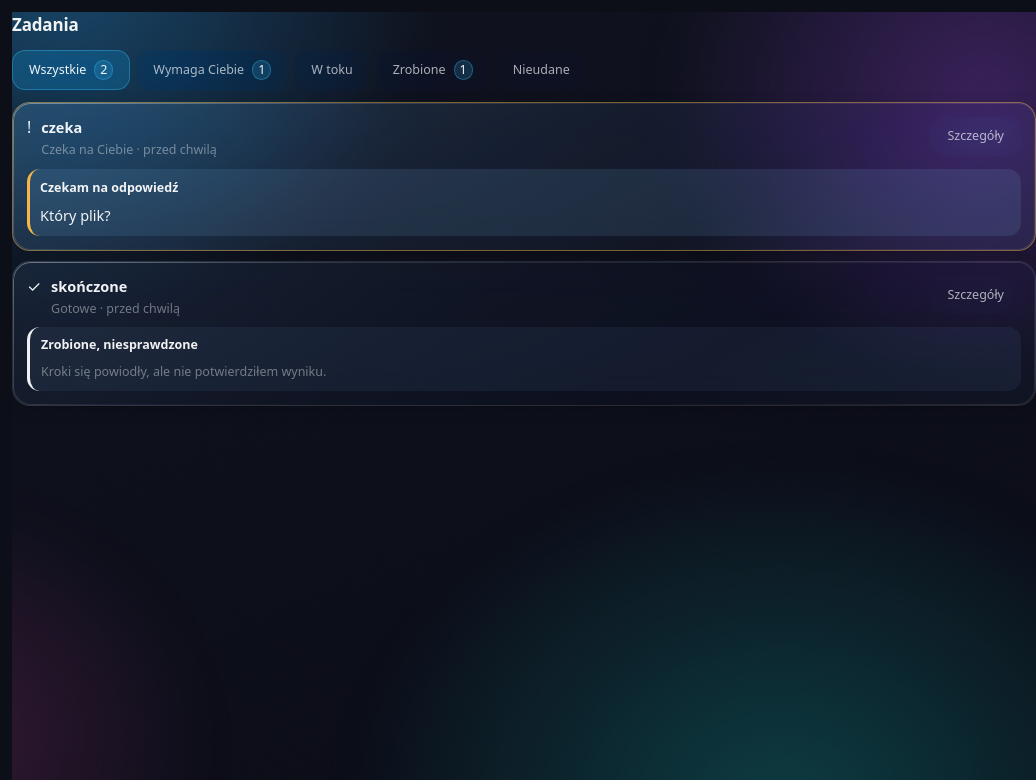
Test case: the tasks screen › filters to the group that matters
The width and height of the screenshot is (1036, 780).
Click the tab "Wymaga Ciebie 1": (212, 70) [136,50,288,90]
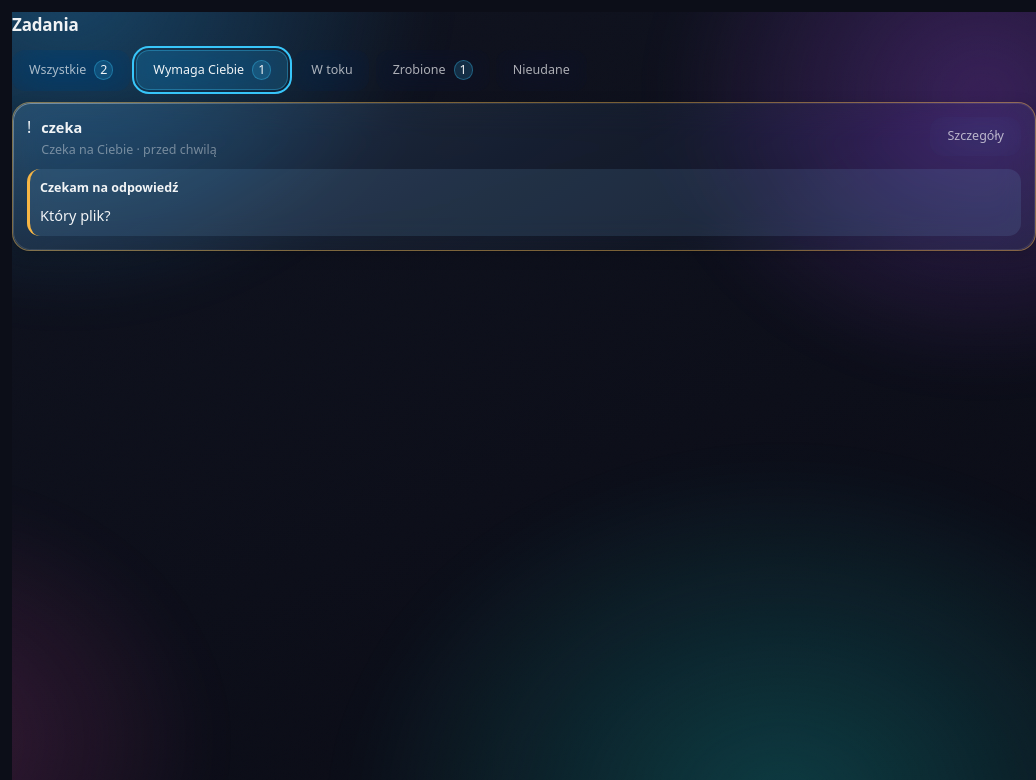
Expected: the text "czeka" is shown, [41,117,82,137]
Result: the text "skończone" is gone
